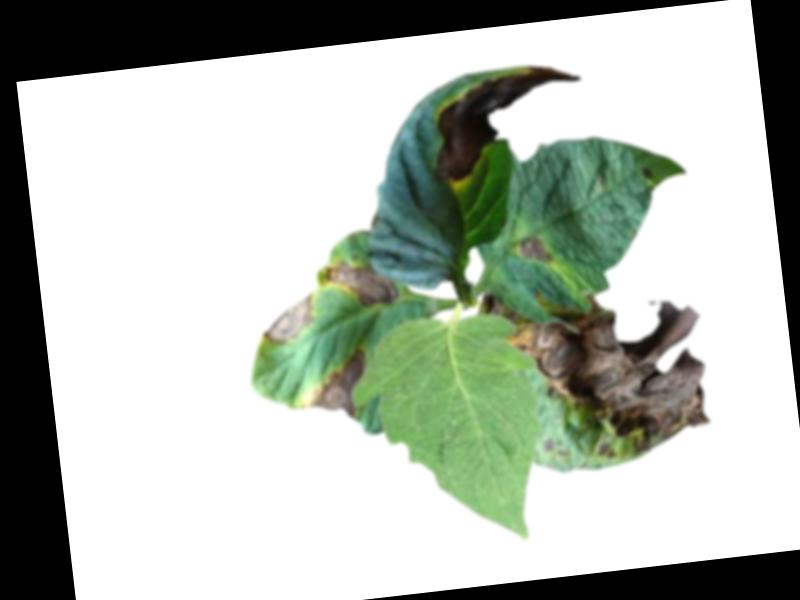Early_blight: (502, 281, 714, 471), (420, 61, 591, 188), (299, 347, 373, 424), (321, 255, 400, 316), (257, 291, 317, 349), (514, 234, 552, 266), (478, 290, 502, 320), (639, 167, 652, 183)
healthy: (343, 306, 555, 560)
